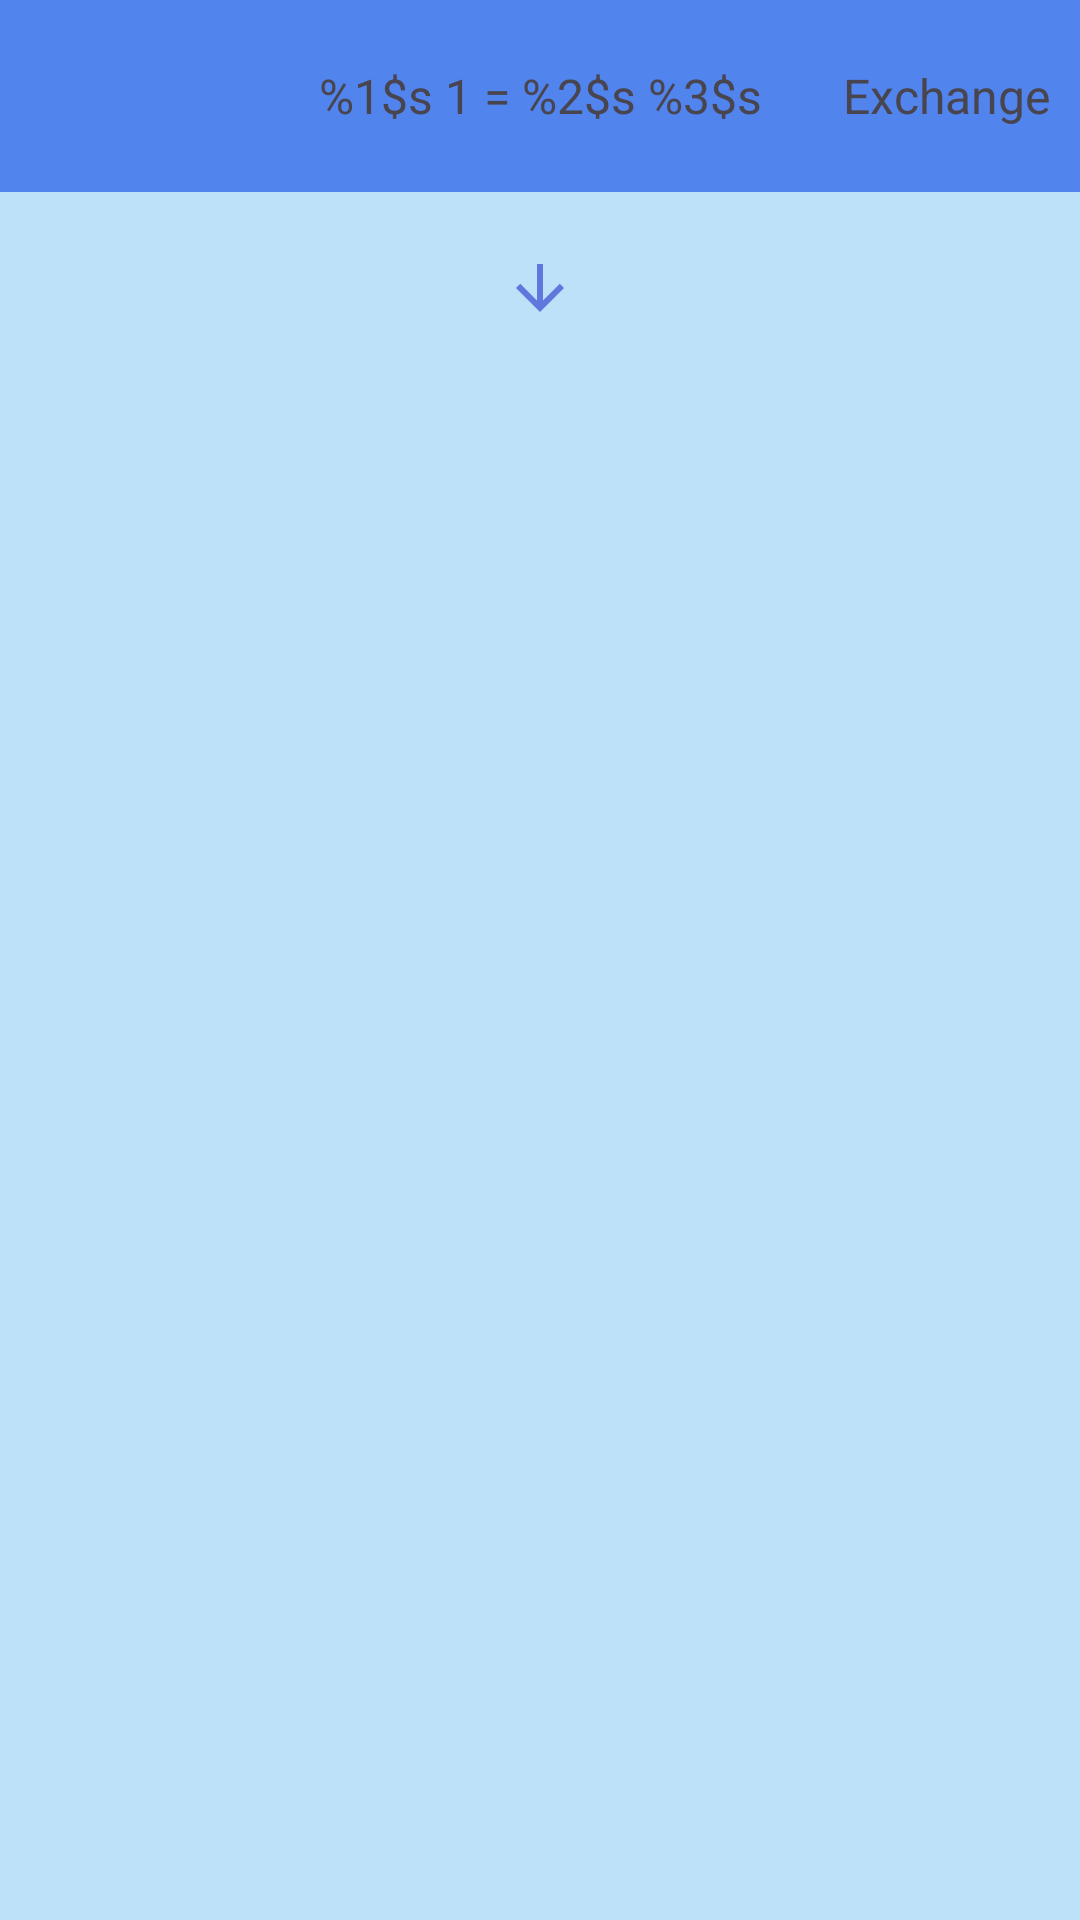

Point at icon controls on the screen. Image size 1080*1920, points as (x,y).
arrow downward: (540,288)
